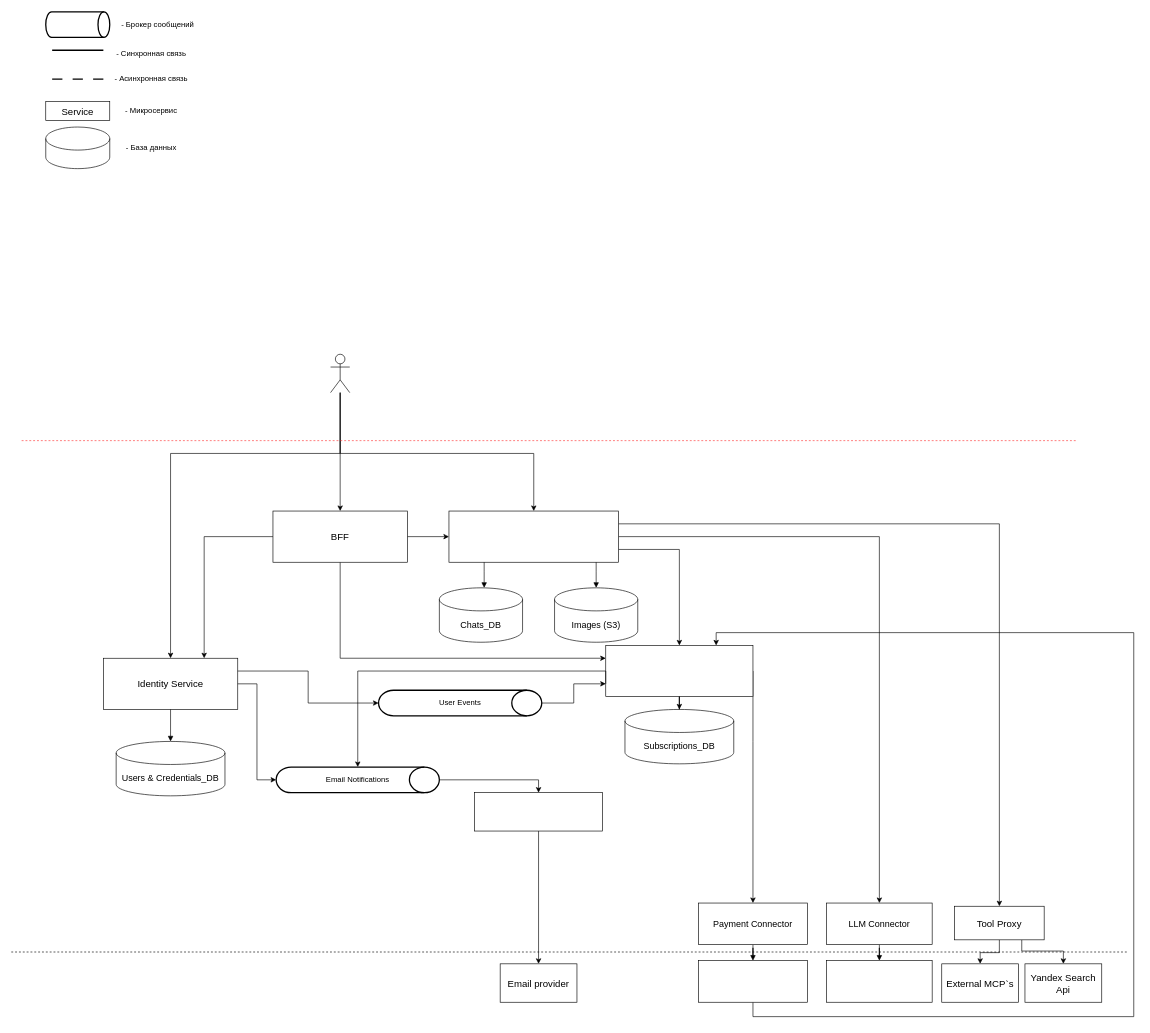
The diagram is 1150 pixels wide and 1033 high, and some of its shapes have lost their labels. Here are the shapes that lost their labels. From the top down, the box of each, then its label:
(45, 126, 110, 169): Data Base
(330, 354, 350, 393): User
(448, 510, 619, 562): Chat & Agent Service
(605, 645, 753, 697): Subscription Service
(474, 792, 603, 831): Notifications
(698, 960, 807, 1002): Payment Provider
(826, 960, 932, 1002): Inference provider
